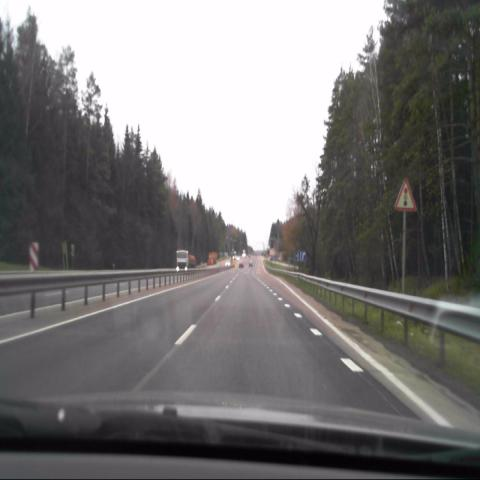1_8: (393, 177, 419, 213)
